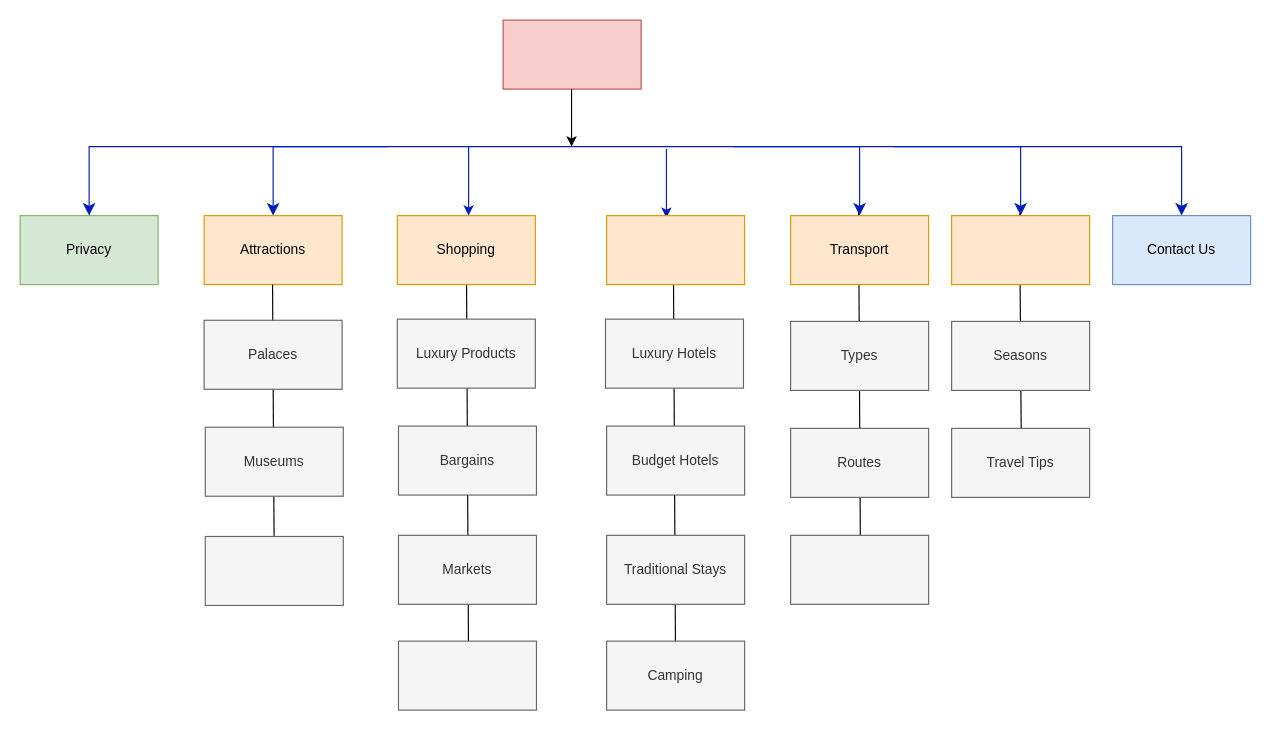
Some shapes in this 1271 by 730 pixel diagram are drawn without their labels. Here are the shapes that lost their labels. From the top down, the box of each, then its label:
(502, 19, 641, 89): Home Page
(605, 214, 745, 285): Accomodation
(950, 214, 1090, 285): Other Tips
(204, 535, 343, 605): Amusement Parks
(789, 534, 929, 604): Ticketing Options
(397, 640, 536, 710): Cultural Items
